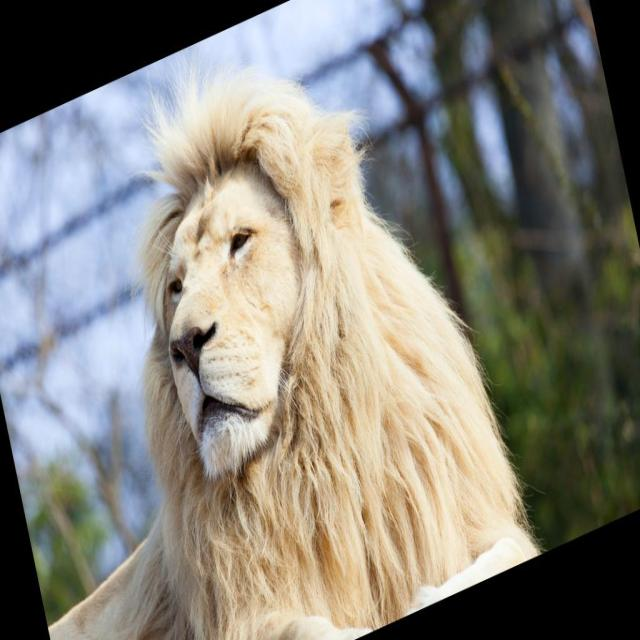Lion: (0, 0, 556, 639)
